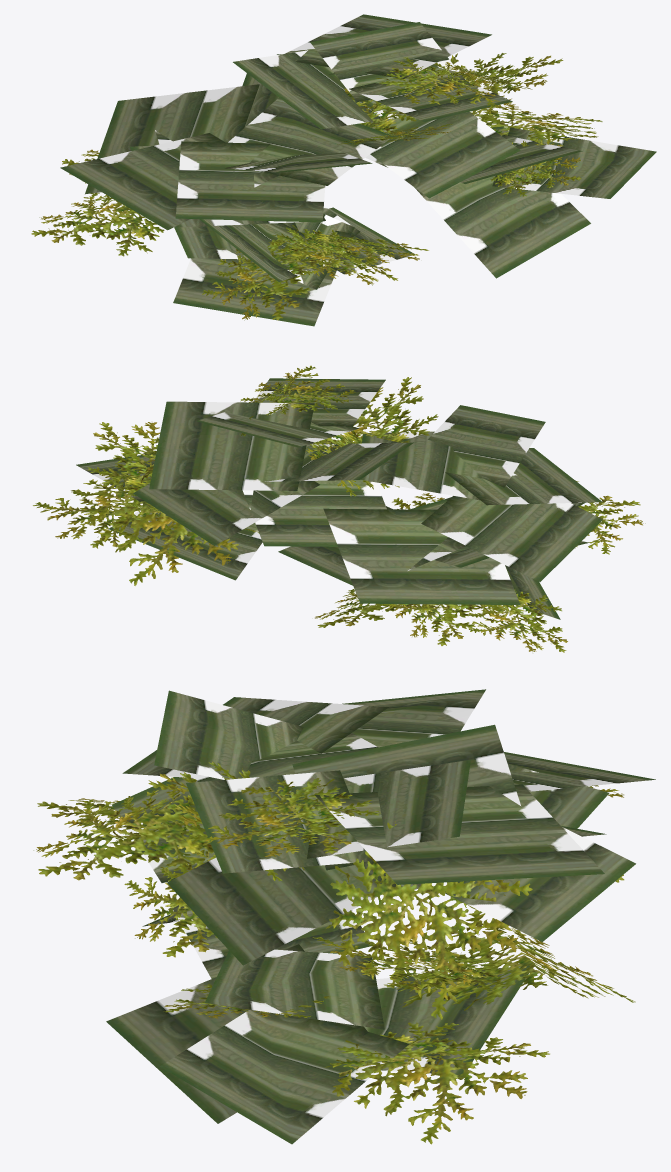
File: S_Tree_Green020.FBX
3 renders of one model, top to bottom at view 1: azimuth 30°, elevation 25°; view 2: azimuth 150°, elevation 25°; view 3: azimuth 270°, elevation 25°, orthographic. The views are drawn at different scales.
Parts seen in each view (by area): view 1: S_Tree_Green020; view 2: S_Tree_Green020; view 3: S_Tree_Green020.
Boxes of the visible parts, <box> form: S_Tree_Green020: <box>31,14,656,326</box>; S_Tree_Green020: <box>33,365,645,652</box>; S_Tree_Green020: <box>33,689,655,1144</box>.
Bounding box in the file's own units: 674 × 463 × 199.
